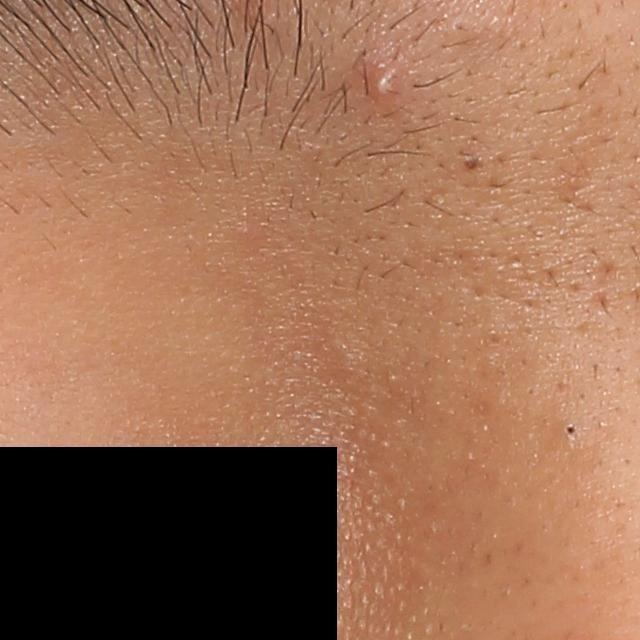comedo: (561, 420, 580, 442)
pustule: (374, 64, 398, 102)
